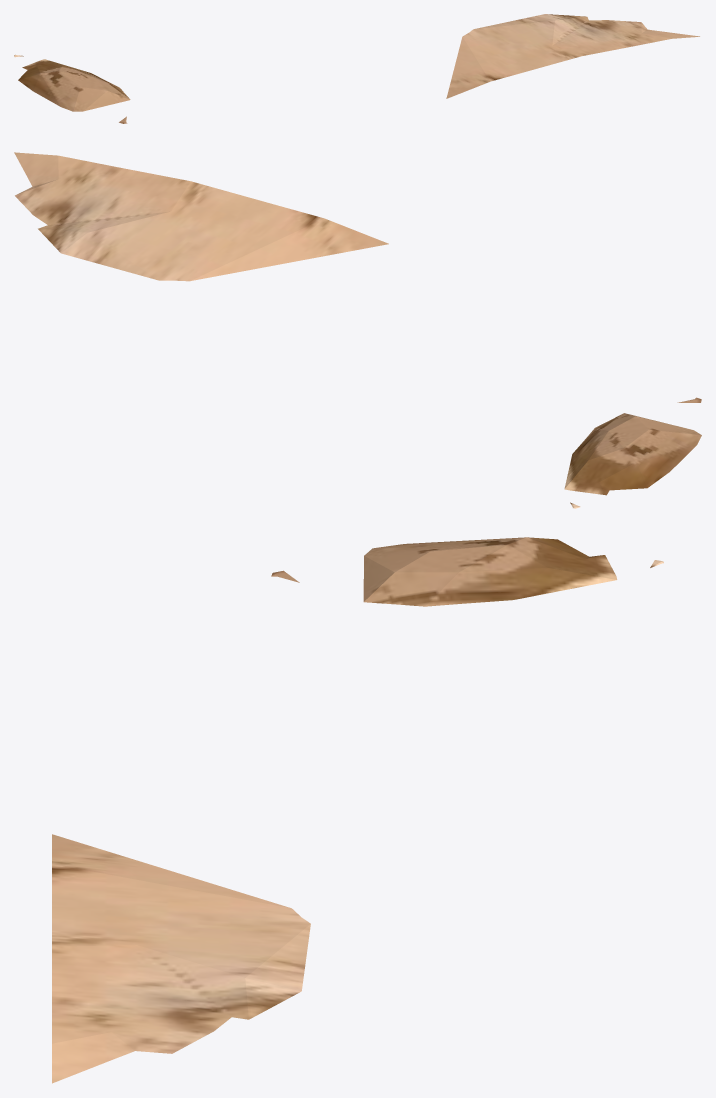
3 views of the same model, one above another, from view 1: azimuth 30°, elevation 25°; view 2: azimuth 150°, elevation 25°; view 3: azimuth 270°, elevation 25° (orthographic). The views are drawn at different scales.
Bounding box in the file's own units: 0.6634 × 0.0127 × 0.3153.
Materials: 1 (1 with a texture image).
